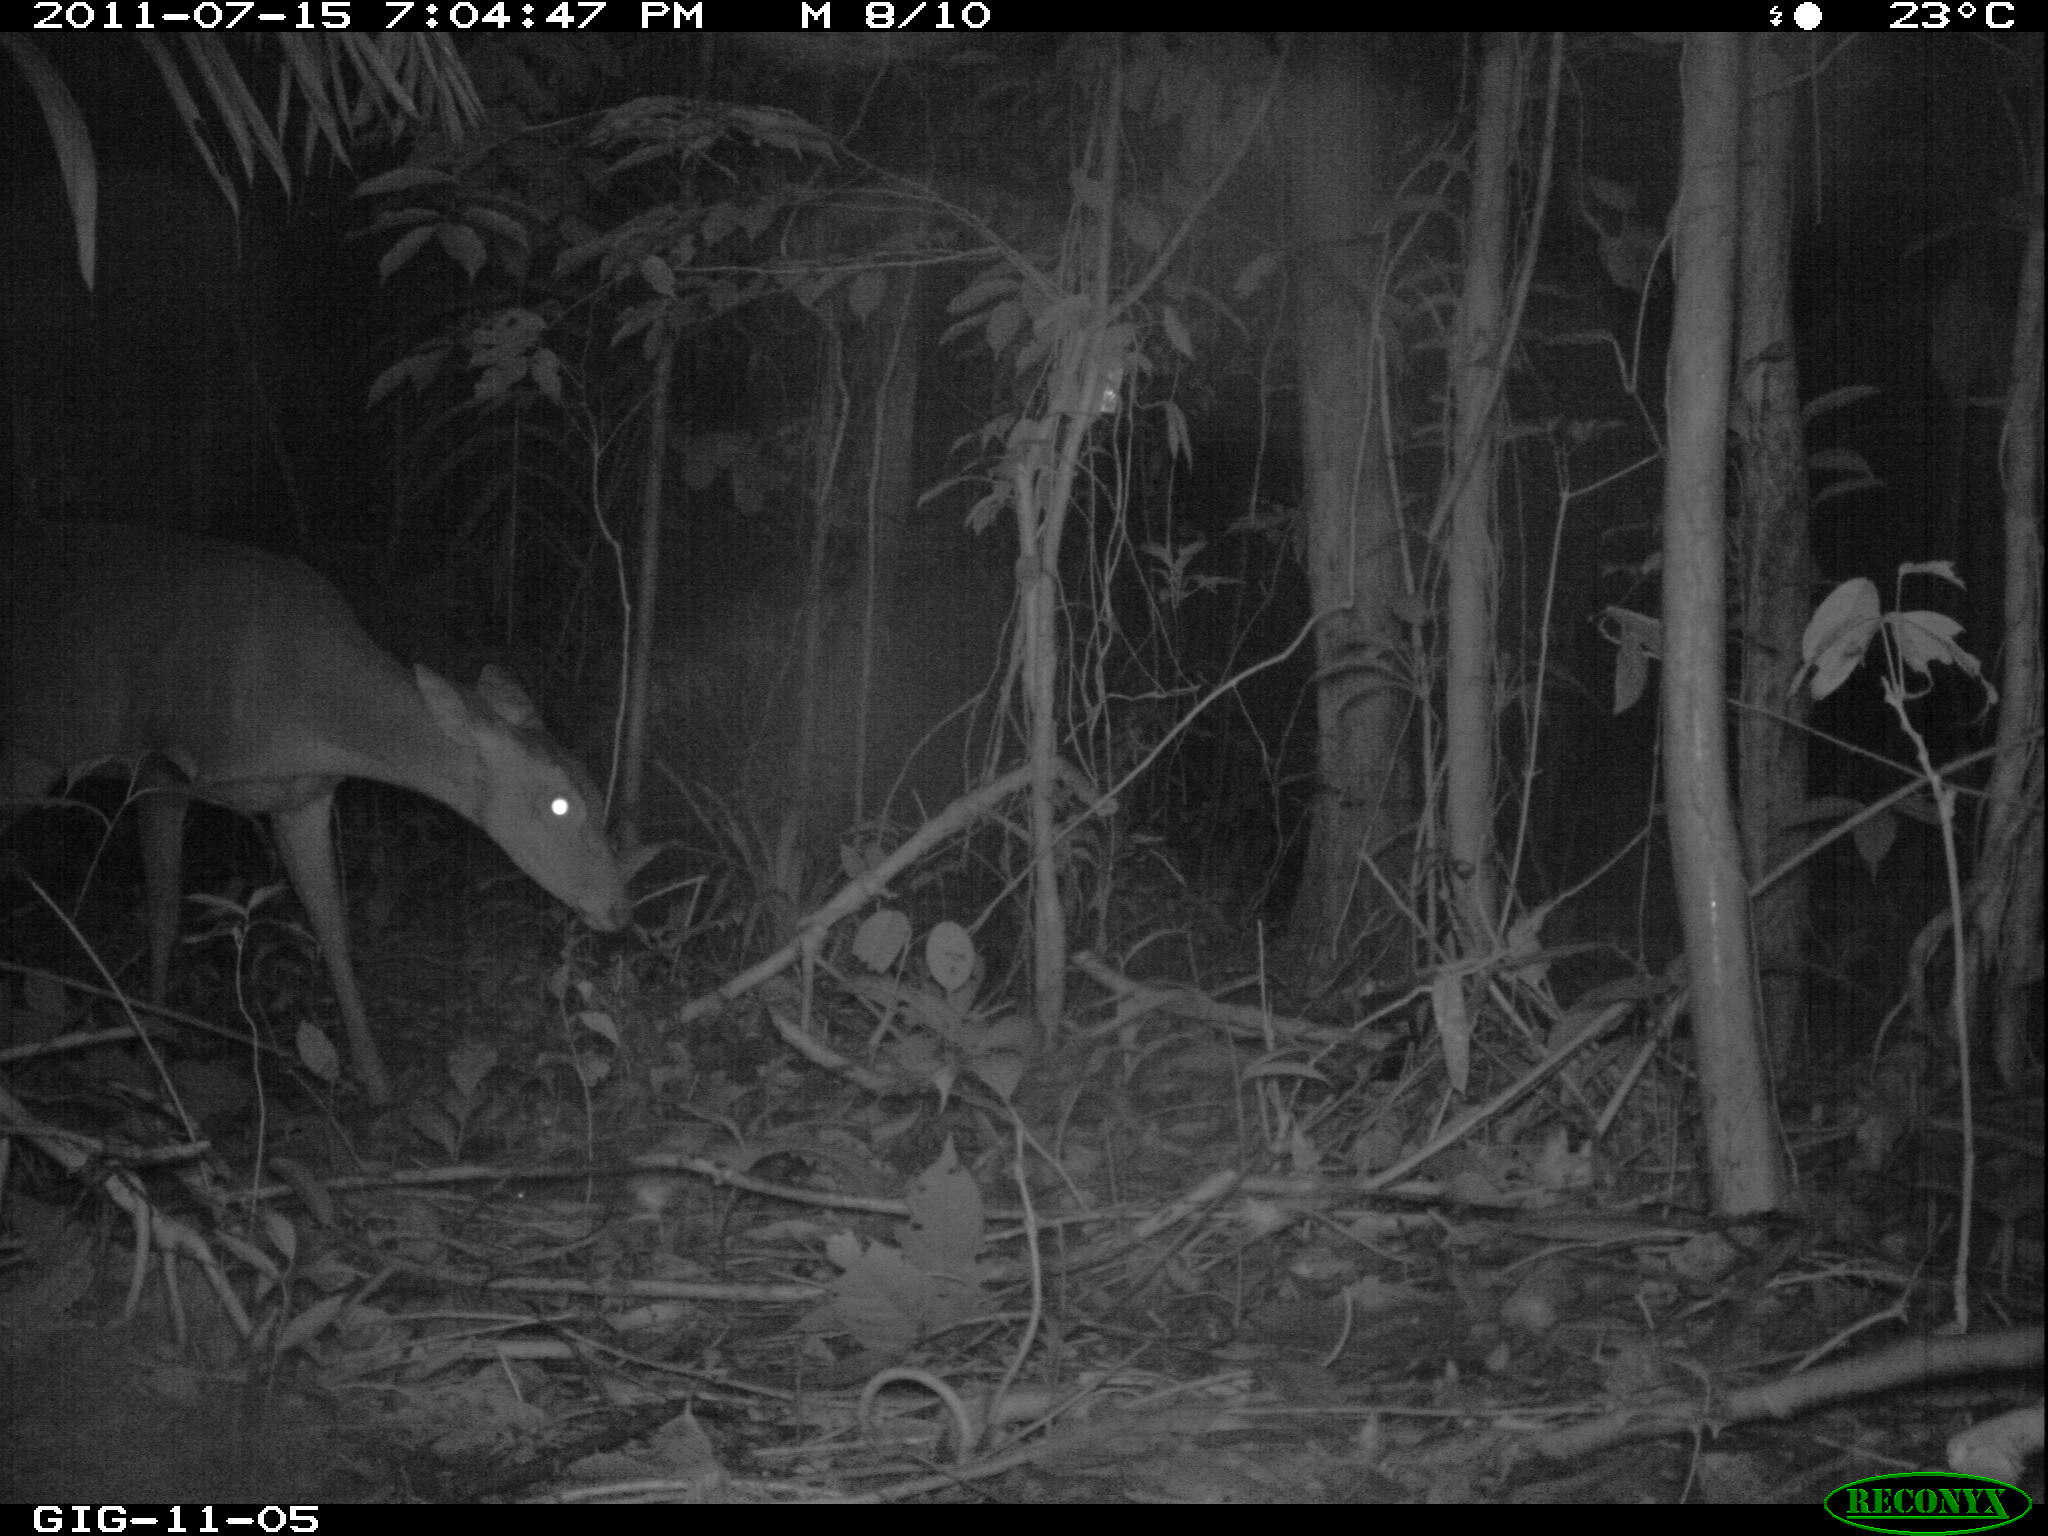Deer: (2, 520, 640, 1121)
